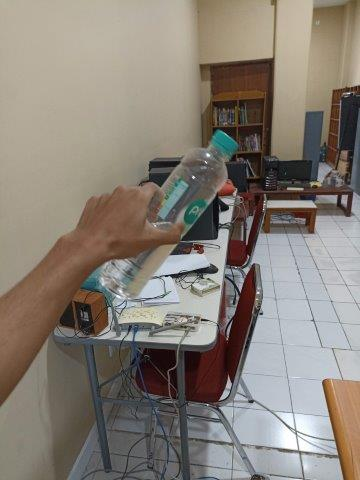botolplastik: (100, 131, 237, 300)
